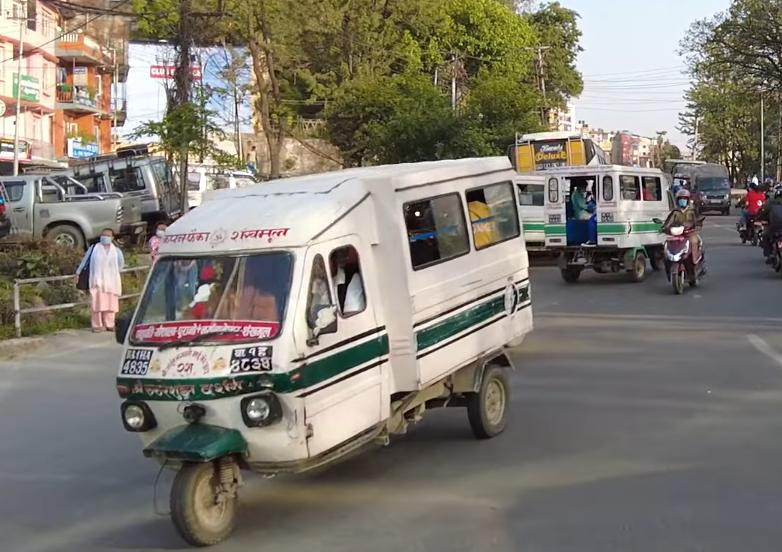scooter: (654, 213, 715, 297)
tempo: (116, 153, 536, 550), (536, 153, 683, 280)
